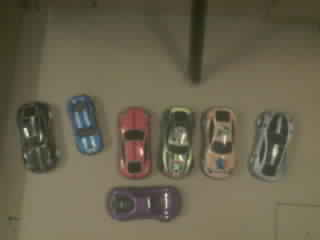Car: (249, 111, 292, 181), (17, 101, 57, 172), (106, 186, 181, 220), (159, 107, 193, 178), (118, 107, 151, 179), (201, 107, 234, 178), (67, 94, 103, 155)
